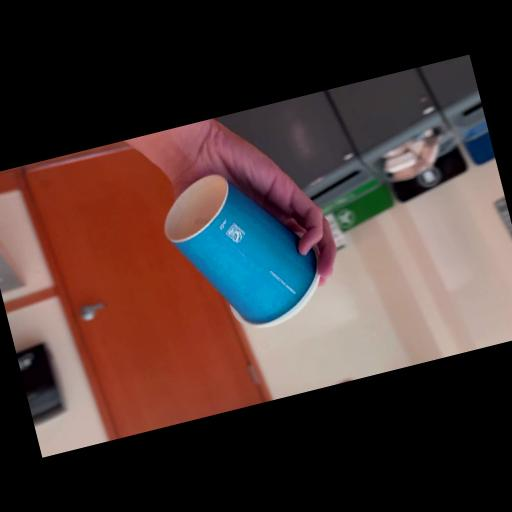lp_paper_cup: (152, 150, 338, 347)
